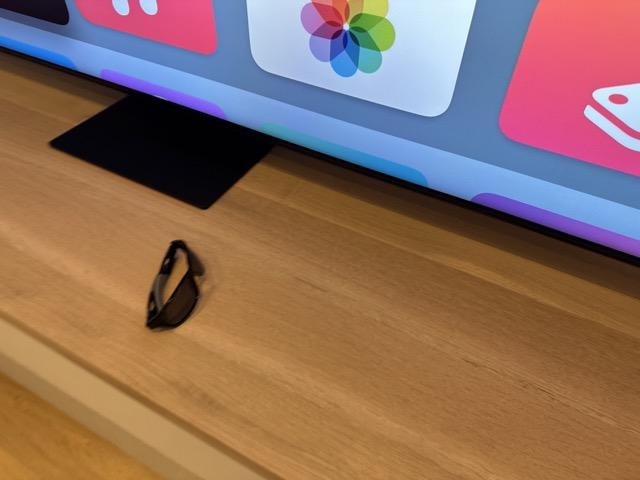Sunglasses: (145, 238, 206, 331)
